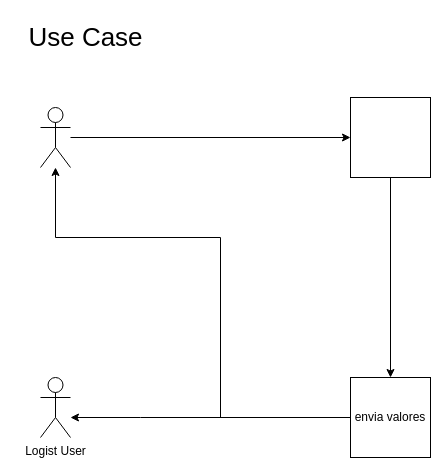
The diagram is 448 pixels wide and 475 high, and some of its shapes have lost their labels. The shapes that lost their labels are listed below. From the top down, each one's box as (x1, y1, x2, y2) in pixels, then its label:
(40, 106, 70, 168): Common User
(350, 96, 430, 178): Confere saldo
